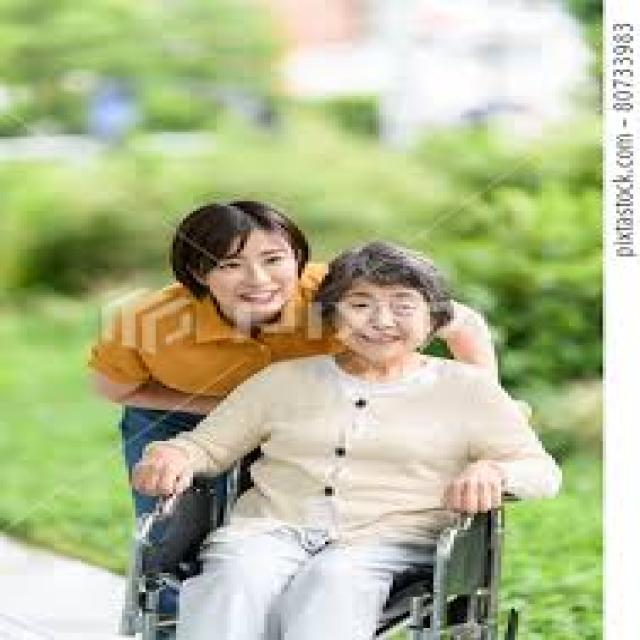wheelchairs: (115, 427, 539, 638)
